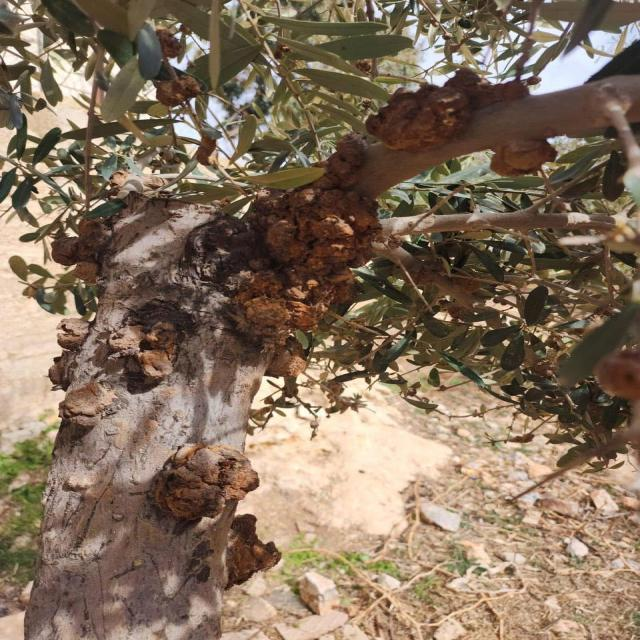Tuberculosis: (200, 135, 381, 351), (366, 71, 489, 149), (156, 444, 258, 520), (226, 514, 280, 590), (47, 318, 92, 391), (491, 140, 556, 176), (60, 382, 115, 419), (155, 75, 200, 106), (132, 350, 168, 380)
